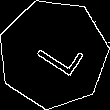L_NW: (24, 27, 83, 80)
